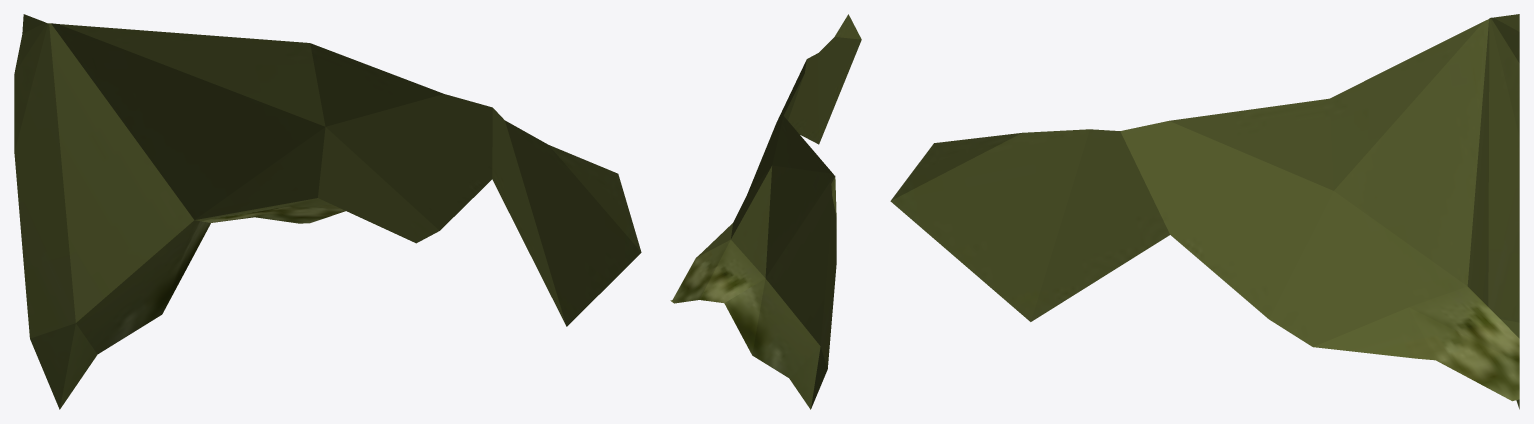
The picture shows the model from 3 angles, left to right: view 1: azimuth 30°, elevation 25°; view 2: azimuth 150°, elevation 25°; view 3: azimuth 270°, elevation 25°; orthographic projection. The views are drawn at different scales.
Size of the model in its own units: 0.9211 by 1.22 by 1.84.
1 material, 1 textured.
